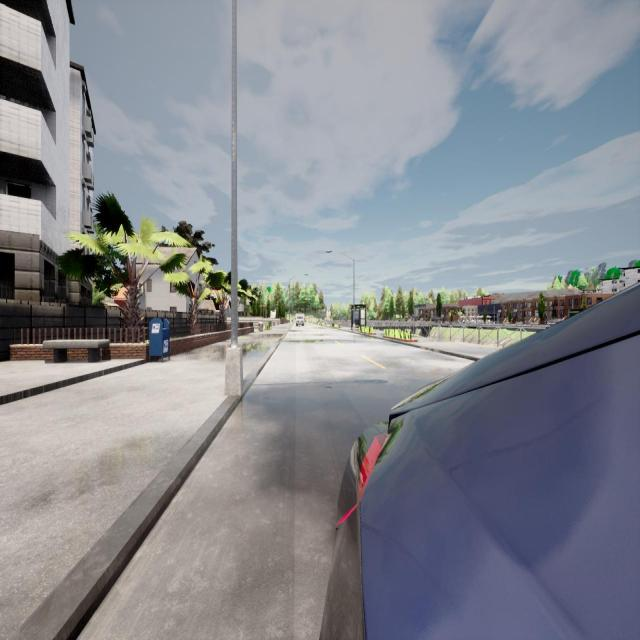Vehicle: (320, 285, 640, 638), (295, 313, 305, 327)
